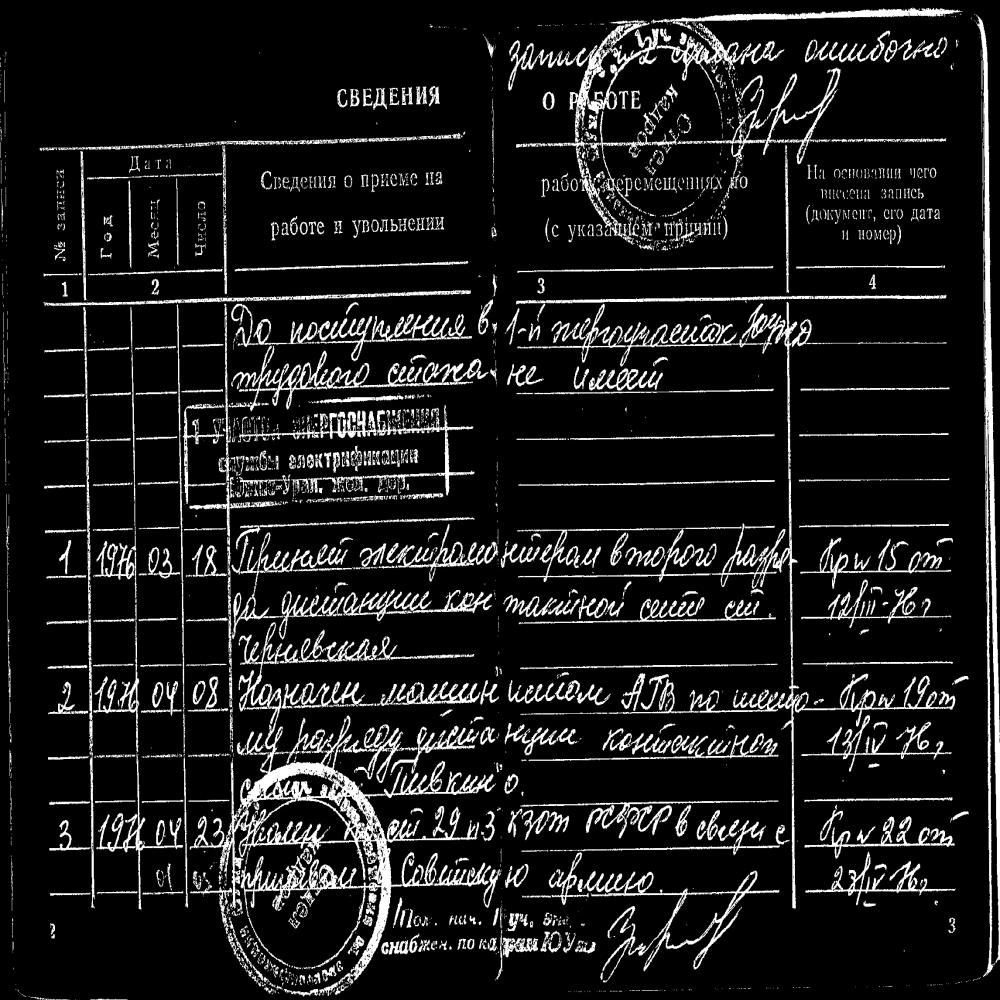rus: (230, 578, 499, 632), (501, 302, 818, 346), (232, 304, 492, 356), (809, 805, 962, 891), (805, 159, 952, 246), (51, 528, 218, 584), (512, 590, 764, 626), (582, 801, 787, 843), (362, 535, 602, 569), (50, 800, 224, 846), (389, 801, 572, 843), (39, 673, 226, 714), (221, 344, 385, 388), (236, 717, 406, 758), (374, 676, 615, 702), (231, 668, 366, 714), (629, 678, 822, 710), (233, 529, 352, 580), (239, 624, 396, 662), (509, 357, 674, 392), (380, 754, 522, 793), (820, 714, 951, 756), (328, 80, 450, 124), (396, 853, 538, 889), (602, 723, 780, 750), (841, 672, 967, 710), (421, 720, 584, 747), (614, 532, 723, 572), (385, 352, 492, 389), (553, 856, 654, 895), (341, 163, 442, 200), (335, 216, 455, 246), (46, 158, 78, 265), (256, 159, 341, 198), (523, 162, 579, 200), (732, 533, 792, 568), (266, 210, 333, 241), (90, 203, 122, 265), (140, 195, 167, 255), (188, 190, 213, 254), (122, 150, 186, 175)
